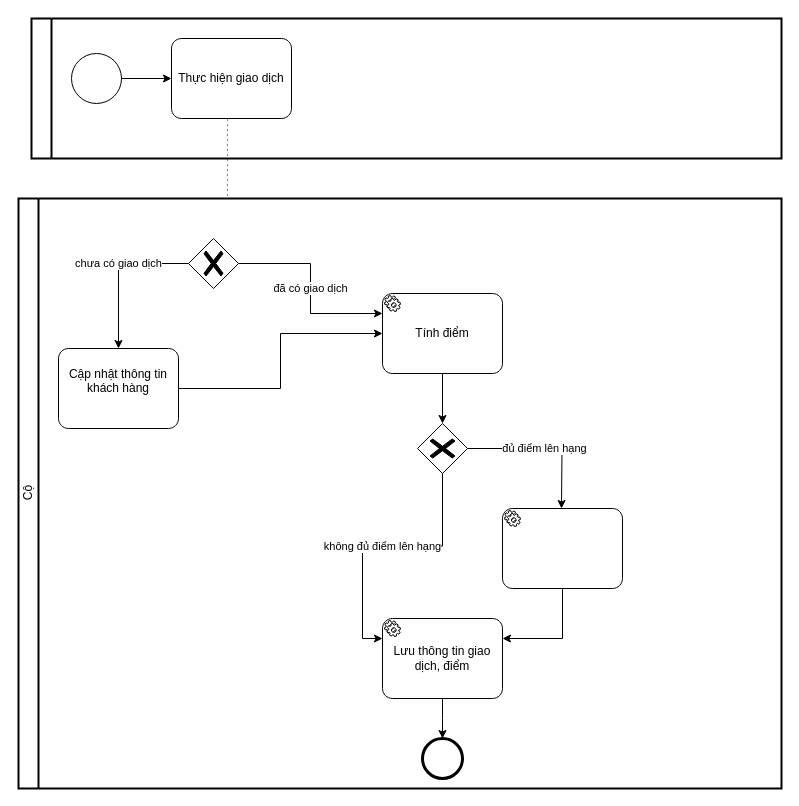
Some shapes in this 799 by 806 pixel diagram are drawn without their labels. Each missing label, with the box of its shape:
Cập nhật hạng sau khi lên: (502, 508, 622, 588)
Khách hàng: (30, 17, 782, 159)
